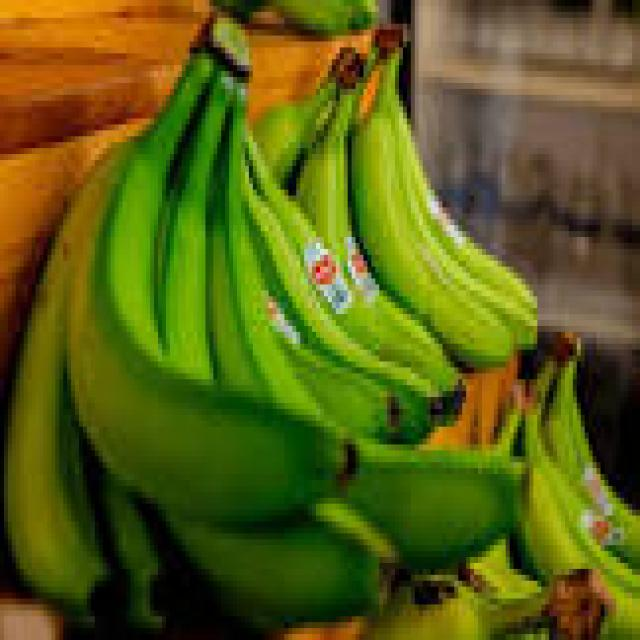banana: (68, 54, 351, 527), (245, 137, 438, 444), (4, 149, 130, 616), (214, 113, 395, 438), (297, 60, 454, 391), (352, 54, 513, 367), (210, 83, 327, 420), (388, 95, 537, 314), (396, 137, 537, 349), (518, 403, 639, 639), (166, 516, 383, 628), (159, 72, 233, 385), (344, 439, 521, 568), (546, 344, 639, 568), (265, 297, 395, 438), (253, 48, 351, 183), (364, 575, 549, 639), (95, 469, 161, 634), (471, 540, 541, 598), (269, 0, 379, 35), (214, 0, 268, 17)
